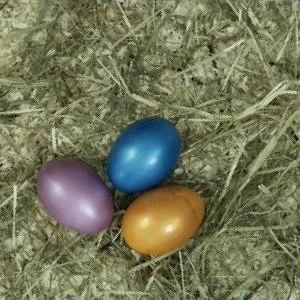egg: (121, 186, 206, 255), (37, 159, 114, 234), (107, 118, 181, 193)
